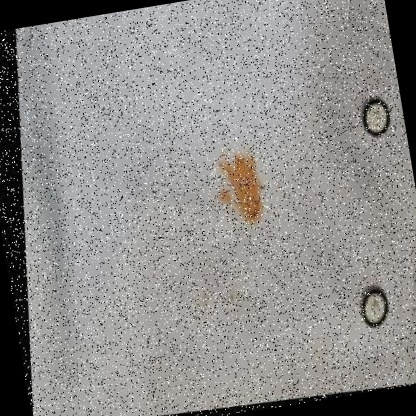kimchi: (196, 145, 278, 239)
